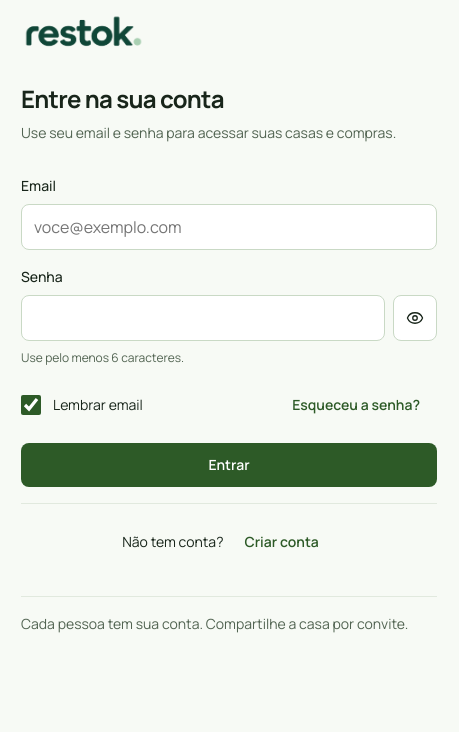
Test case: login form › shows the credential error and lets the person try again
The image size is (459, 732).
Type "casa@example.com" into the field with id "email". click: (229, 227)
box: [21, 204, 437, 250]
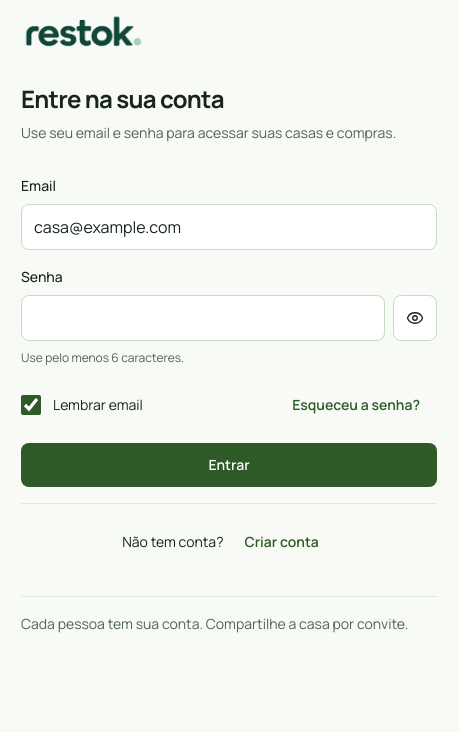
Type "segredo" into the password field labelled "Senha". click: (203, 318)
box: [21, 295, 385, 341]
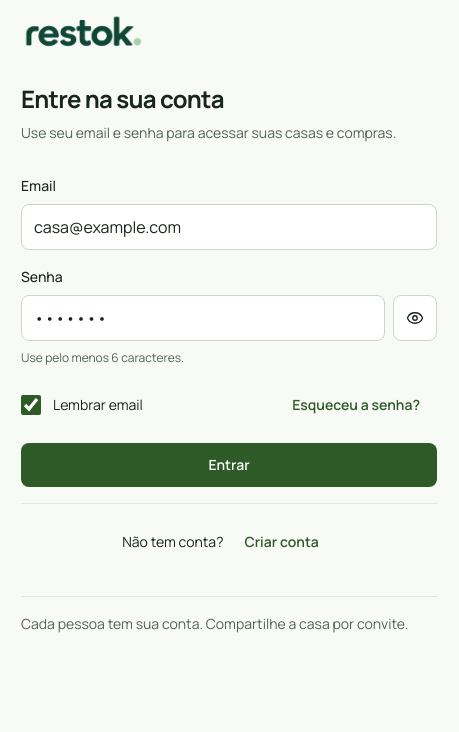
Click the button "Entrar". click: (229, 465)
box: [21, 443, 437, 487]
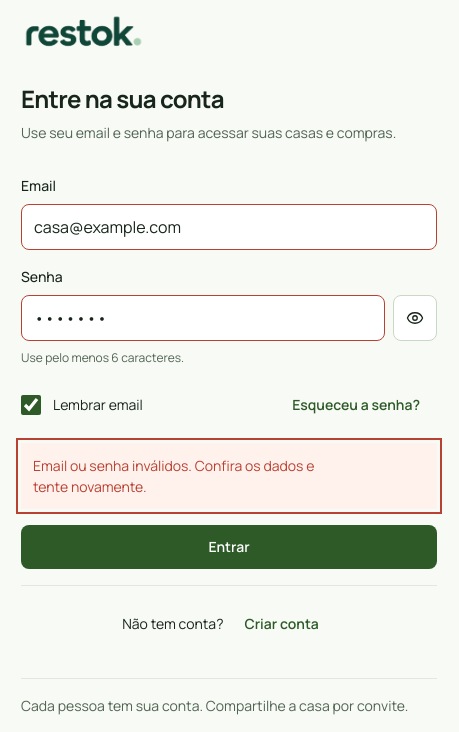
Expected: the button "Entrar" is enabled, [21, 525, 437, 569]
Expected: the message reads "Email ou senha inválidos. Confira os dados e tente novamente.", [33, 456, 314, 496]
